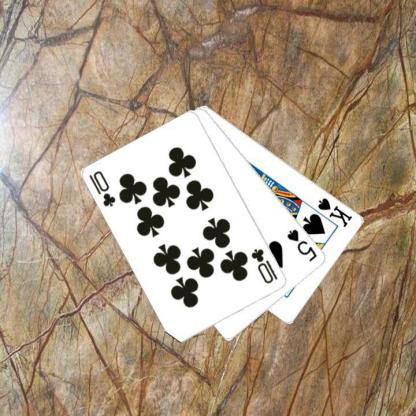10C: (249, 245, 279, 286), (87, 168, 117, 208)
5S: (285, 226, 319, 263)
KS: (316, 195, 354, 228)
